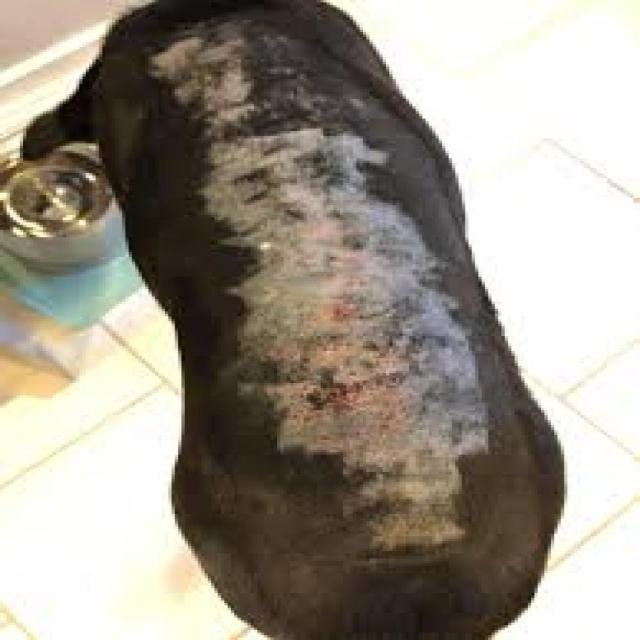allergic dermatitis: (210, 130, 492, 544), (165, 42, 263, 126)
